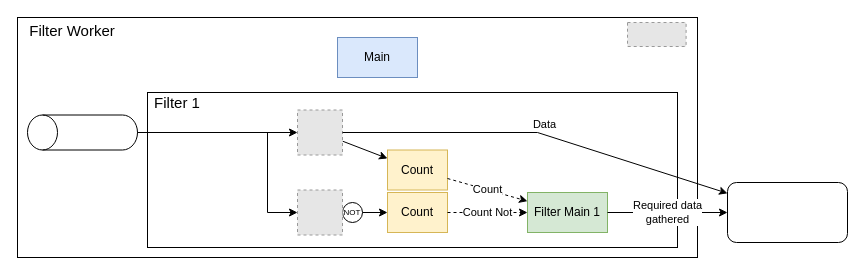
This 865x275 diagram has some shape labels left out. Grey dashed boxes stand in for pictures. The centre of each missing label's shape, as x and y in pixels:
"All Data" goes at (82,132).
"Sender" goes at (787,212).
